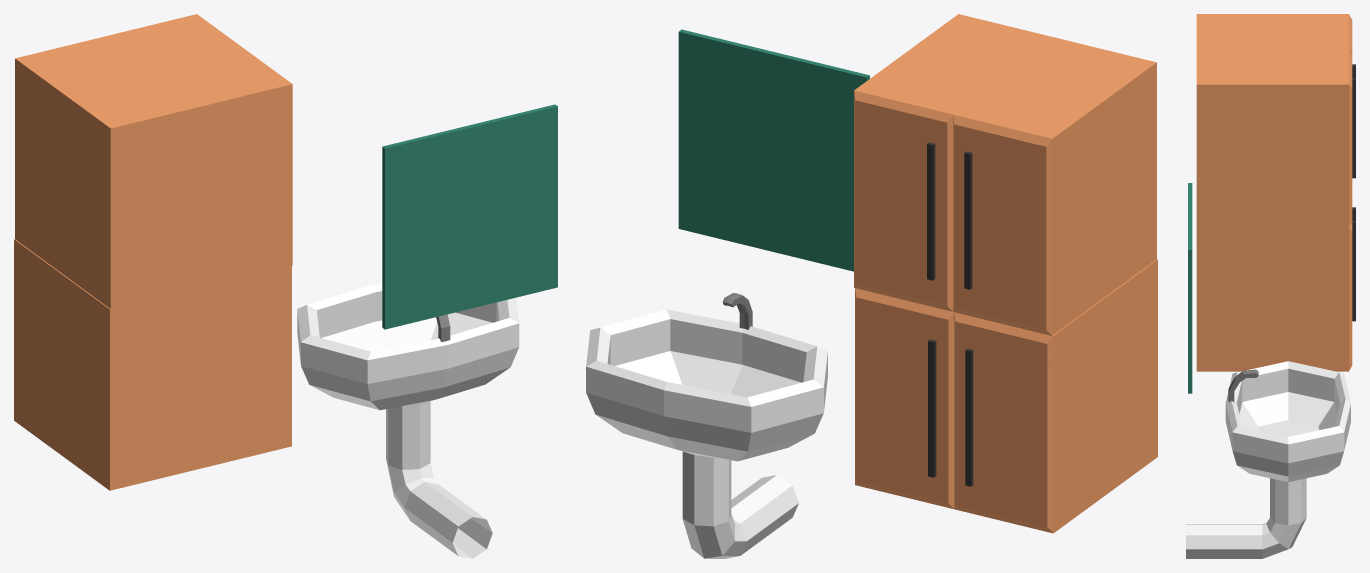
The model's file is Bathroom2.fbx.
3 renders of one model, left to right at view 1: azimuth 30°, elevation 25°; view 2: azimuth 150°, elevation 25°; view 3: azimuth 270°, elevation 25°, orthographic. The views are drawn at different scales.
Visible parts, largest first — view 1: BathroomCupboard2, BathroomCupboard1, BathroomMirror, BathroomBasin; view 2: BathroomCupboard2, BathroomBasin, BathroomMirror, BathroomCupboard1, BathroomDoor4, BathroomDoor3, BathroomDoor1, BathroomDoor2; view 3: BathroomCupboard2, BathroomCupboard1, BathroomBasin, BathroomMirror, BathroomDoor4, BathroomDoor1.
Boxes of the visible parts, left/top/right/bottom form: BathroomCupboard2: left=15, top=14, right=292, bottom=309; BathroomCupboard1: left=14, top=239, right=291, bottom=490; BathroomMirror: left=382, top=104, right=557, bottom=329; BathroomBasin: left=297, top=283, right=519, bottom=558; BathroomCupboard2: left=854, top=14, right=1156, bottom=335; BathroomBasin: left=586, top=293, right=827, bottom=558; BathroomMirror: left=678, top=29, right=869, bottom=271; BathroomCupboard1: left=1053, top=259, right=1157, bottom=533; BathroomDoor4: left=854, top=90, right=953, bottom=311; BathroomDoor3: left=953, top=114, right=1052, bottom=335; BathroomDoor1: left=855, top=288, right=954, bottom=508; BathroomDoor2: left=954, top=312, right=1053, bottom=533; BathroomCupboard2: left=1196, top=14, right=1348, bottom=228; BathroomCupboard1: left=1196, top=228, right=1348, bottom=371; BathroomBasin: left=1186, top=361, right=1350, bottom=558; BathroomMirror: left=1188, top=183, right=1192, bottom=393; BathroomDoor4: left=1349, top=50, right=1355, bottom=227; BathroomDoor1: left=1349, top=220, right=1355, bottom=370.
Size of the model in its own units: 1.48 by 0.5908 by 1.56.
